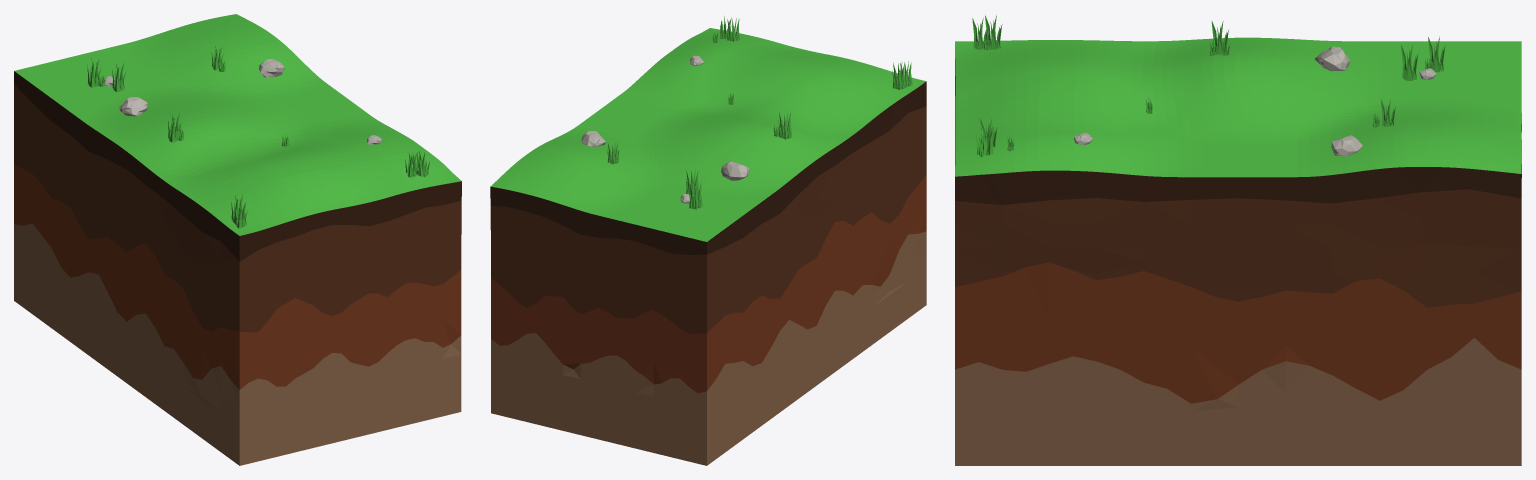
The model's file is ExportedBlenderFBXFile.fbx.
3 renders of one model, left to right at view 1: azimuth 30°, elevation 25°; view 2: azimuth 150°, elevation 25°; view 3: azimuth 270°, elevation 25°, orthographic. The views are drawn at different scales.
Parts seen in each view (by area): view 1: kocka_trava_kamni; view 2: kocka_trava_kamni; view 3: kocka_trava_kamni.
Part boxes in pixels (x1,y1,x2,y2): kocka_trava_kamni: (14,14,461,465); kocka_trava_kamni: (490,16,926,465); kocka_trava_kamni: (955,15,1521,465).
Bounding box in the file's own units: 4.55 × 5.18 × 7.96.
